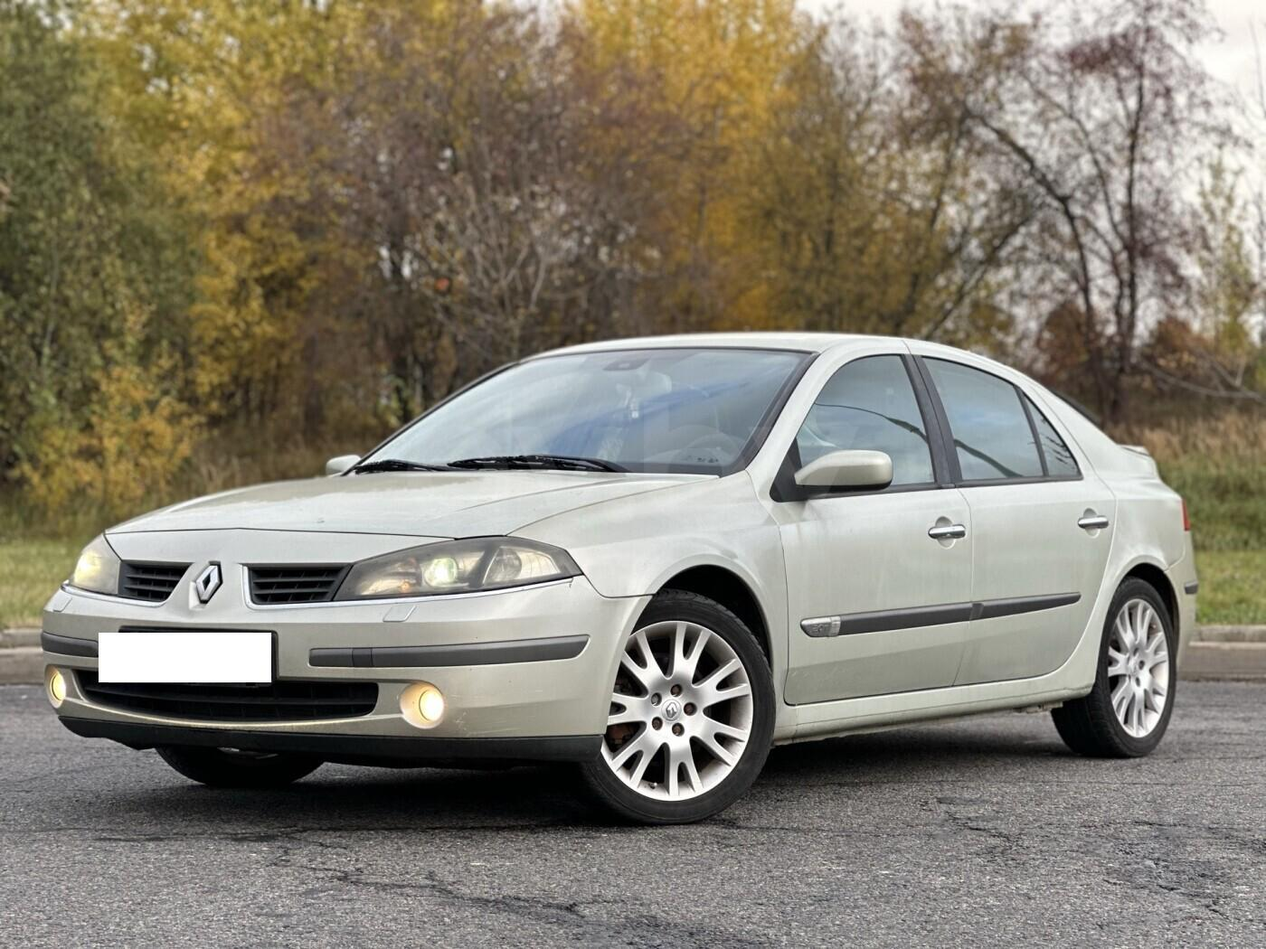Laguna_2005-2007: (43, 311, 1209, 815)
